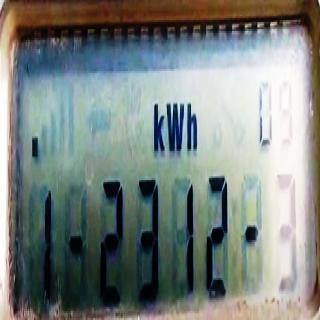-: (244, 220, 259, 244), (69, 231, 82, 257), (31, 132, 39, 162)
0: (255, 72, 275, 156)
1: (36, 183, 59, 313), (184, 180, 201, 306)
2: (95, 169, 127, 313), (204, 169, 234, 309)
3: (274, 163, 302, 298), (136, 173, 162, 308)
9: (276, 71, 294, 155)
